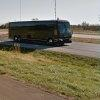Bus: (7, 17, 74, 48)
